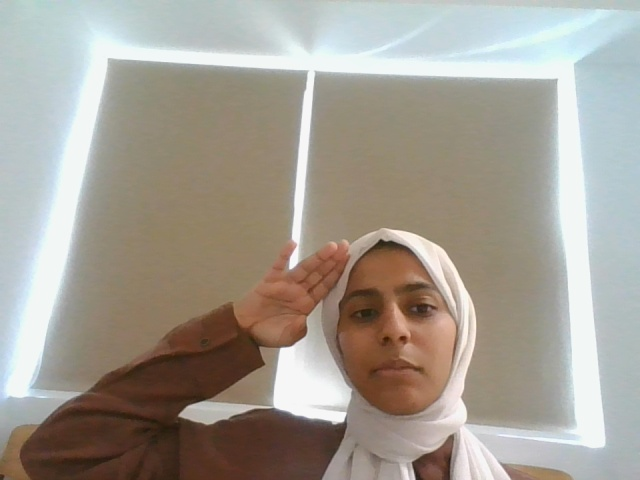hello: (240, 238, 355, 346)
